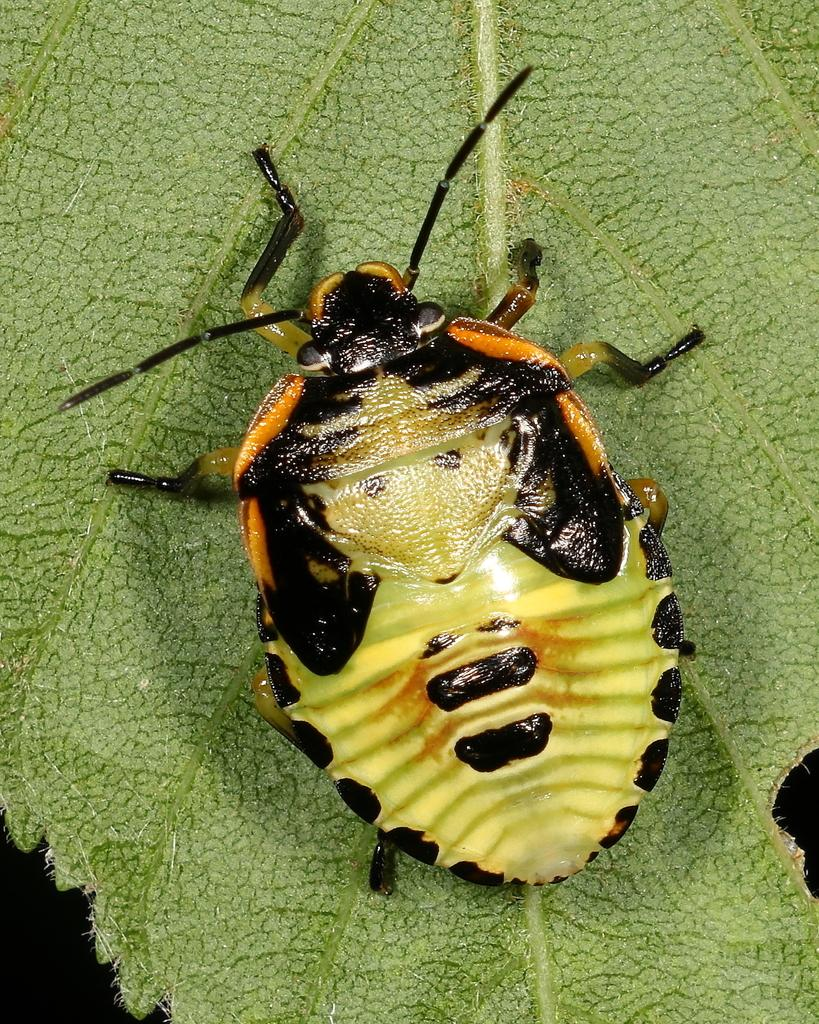stink_bugs: (0, 48, 819, 942)
